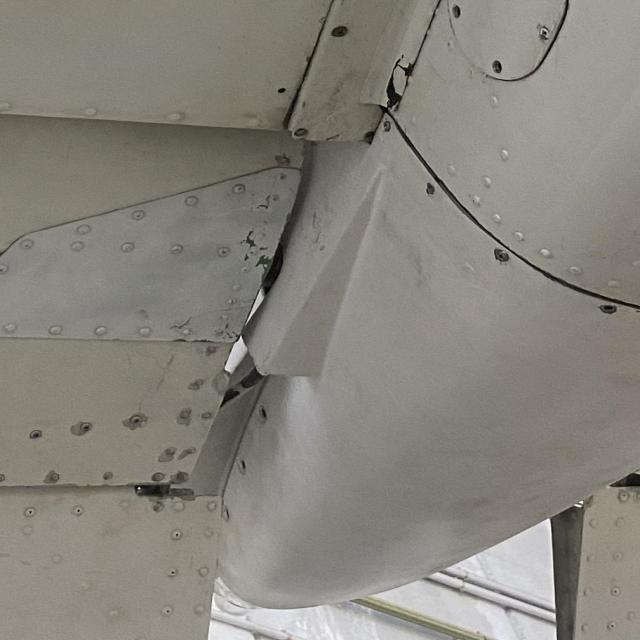Missing-head: (489, 59, 510, 75), (235, 457, 250, 473), (598, 304, 618, 315), (258, 405, 269, 420), (453, 4, 463, 19)
Paint-off: (213, 370, 235, 408), (186, 378, 205, 393), (0, 253, 3, 255)
